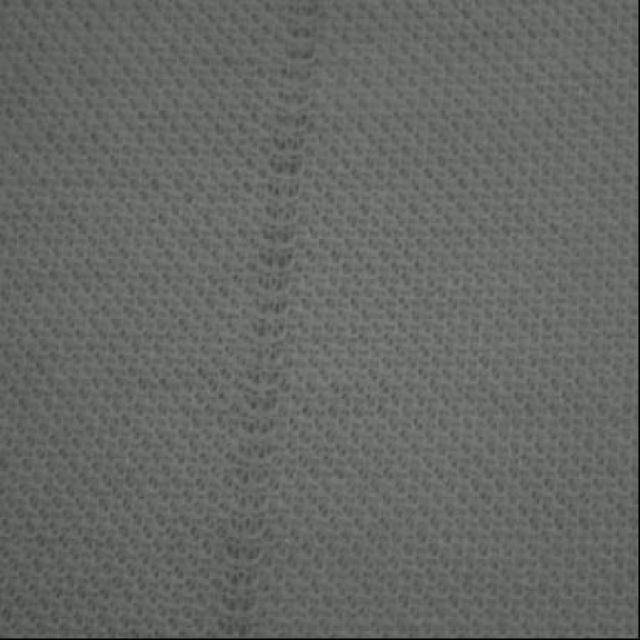Line: (223, 3, 325, 636)
